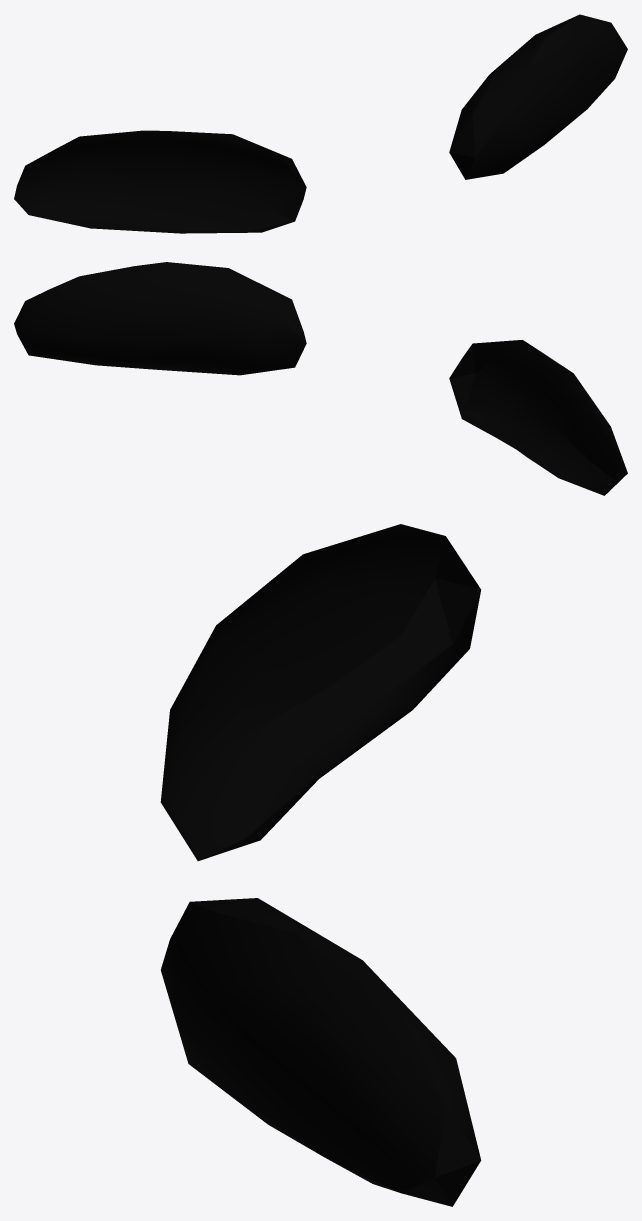
The model's file is eyebrows.fbx.
3 views of the same model, one above another, from view 1: azimuth 30°, elevation 25°; view 2: azimuth 150°, elevation 25°; view 3: azimuth 270°, elevation 25° (orthographic). The views are drawn at different scales.
Visible parts, largest first — view 1: eyebrows; view 2: eyebrows; view 3: eyebrows.
Part boxes in pixels (x1,y1,x2,y2): eyebrows: [14, 14, 627, 233]; eyebrows: [14, 262, 627, 495]; eyebrows: [160, 524, 481, 1206].
Size of the model in its own units: 91.51 by 15.31 by 20.69.
Materials: 1 (1 with a texture image).
